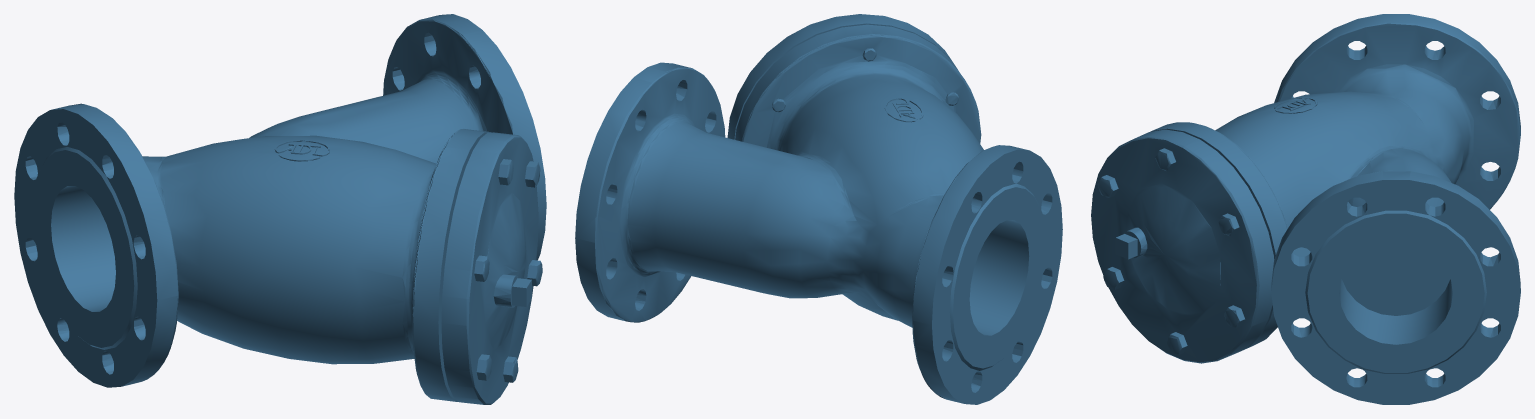
Rendered from adl_is16.glb.
The picture shows the model from 3 angles, left to right: view 1: azimuth 30°, elevation 25°; view 2: azimuth 150°, elevation 25°; view 3: azimuth 270°, elevation 25°; orthographic projection. The views are drawn at different scales.
Visible parts, largest first — view 1: adl_is16_dn100; view 2: adl_is16_dn100; view 3: adl_is16_dn100.
Boxes of the visible parts, <box> form: adl_is16_dn100: <box>14,14,546,404</box>; adl_is16_dn100: <box>575,14,1062,404</box>; adl_is16_dn100: <box>1091,14,1520,404</box>.
Bounding box in the file's own units: 0.35 × 0.2194 × 0.3788.
